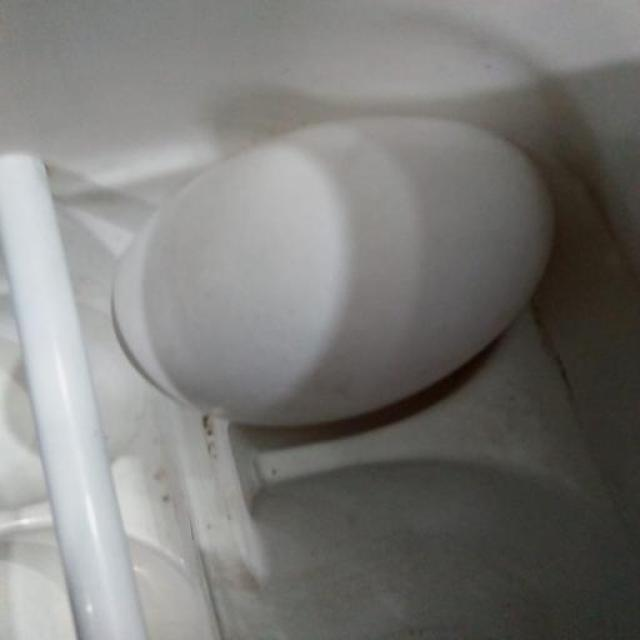telur: (113, 118, 552, 429)
